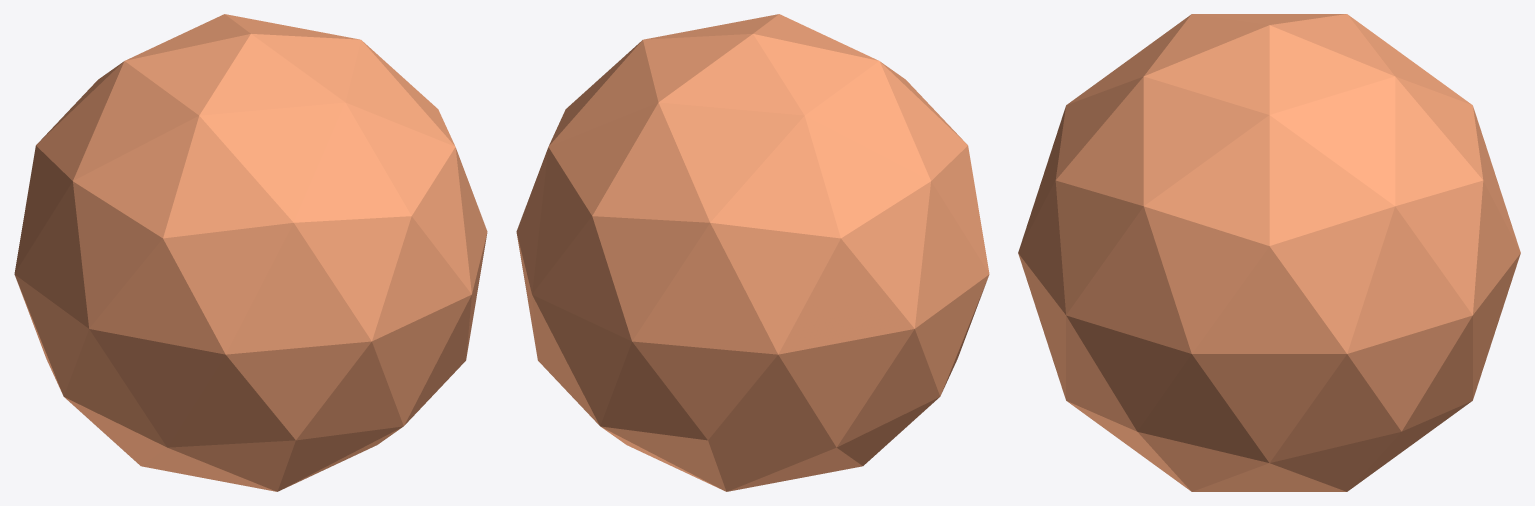
The model's file is cell.fbx.
3 views of the same model, side by side, from view 1: azimuth 30°, elevation 25°; view 2: azimuth 150°, elevation 25°; view 3: azimuth 270°, elevation 25° (orthographic). The views are drawn at different scales.
Parts seen in each view (by area): view 1: Cell; view 2: Cell; view 3: Cell.
Part boxes in pixels (box(x1,y1,x2,y2)): Cell: box(14, 14, 487, 491); Cell: box(516, 14, 989, 491); Cell: box(1018, 14, 1520, 491).
Size of the model in its own units: 95.11 by 100 by 100.
